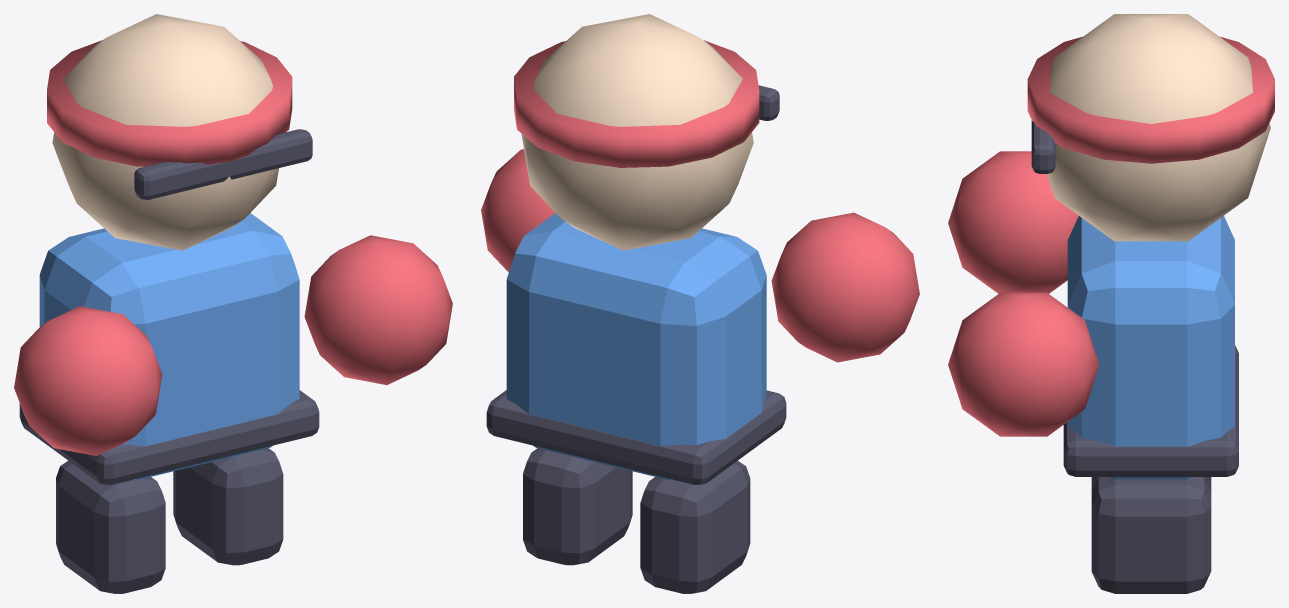
Rendered from fighter.glb.
3 renders of one model, left to right at view 1: azimuth 30°, elevation 25°; view 2: azimuth 150°, elevation 25°; view 3: azimuth 270°, elevation 25°, orthographic.
Parts seen in each view (by area): view 1: Cube, Icosphere, Icosphere.002, Icosphere.001, Cylinder, Cube.003, Cube.004, Cube.001, Cube.002; view 2: Cube, Icosphere, Icosphere.001, Cylinder, Cube.003, Cube.004, Cube.001, Icosphere.002, Cube.002; view 3: Cube, Icosphere, Icosphere.002, Cube.004, Icosphere.001, Cylinder, Cube.001, Cube.002.
Boxes of the visible parts, x1,y1,x2,y2 form: Cube: [39, 213, 299, 479]; Icosphere: [52, 14, 278, 250]; Icosphere.002: [304, 235, 452, 384]; Icosphere.001: [14, 306, 162, 455]; Cylinder: [47, 40, 292, 166]; Cube.003: [56, 460, 165, 593]; Cube.004: [173, 448, 283, 565]; Cube.001: [19, 390, 319, 484]; Cube.002: [134, 129, 312, 199]; Cube: [506, 213, 766, 479]; Icosphere: [521, 14, 753, 250]; Icosphere.001: [771, 212, 919, 362]; Cylinder: [514, 40, 759, 167]; Cube.003: [640, 461, 750, 593]; Cube.004: [523, 448, 632, 565]; Cube.001: [486, 390, 786, 484]; Icosphere.002: [481, 149, 555, 271]; Cube.002: [758, 85, 779, 120]; Cube: [1067, 216, 1234, 479]; Icosphere: [1047, 14, 1270, 241]; Icosphere.002: [948, 292, 1099, 436]; Cube.004: [1091, 477, 1211, 593]; Icosphere.001: [948, 151, 1078, 293]; Cylinder: [1027, 36, 1274, 163]; Cube.001: [1063, 345, 1238, 476]; Cube.002: [1031, 120, 1055, 173].
Bounding box in the file's own units: 1.2 × 1.49 × 0.82.
